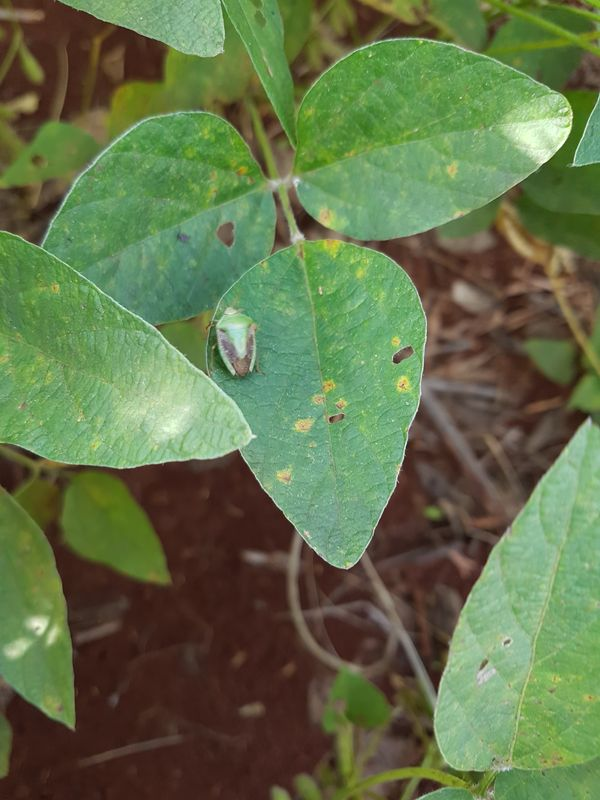Edessa_meditabunda: (195, 292, 279, 390)
